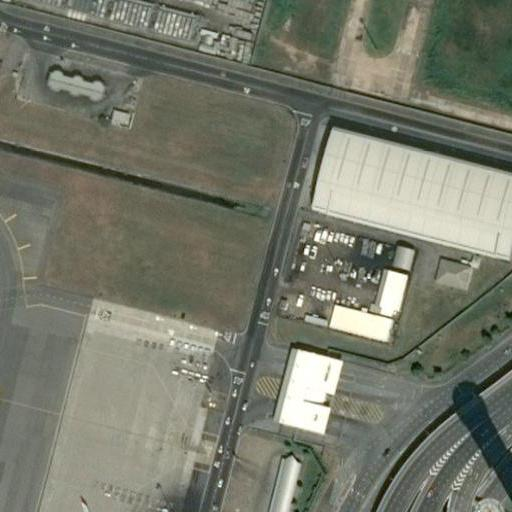Aircraft: (21, 497, 142, 512)
